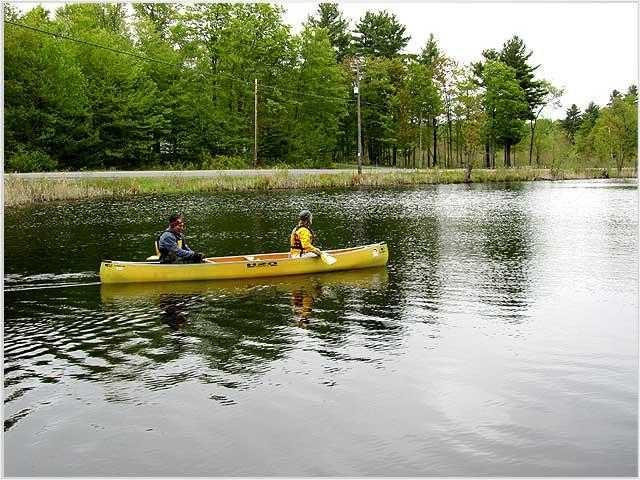kayak: (97, 244, 389, 284)
